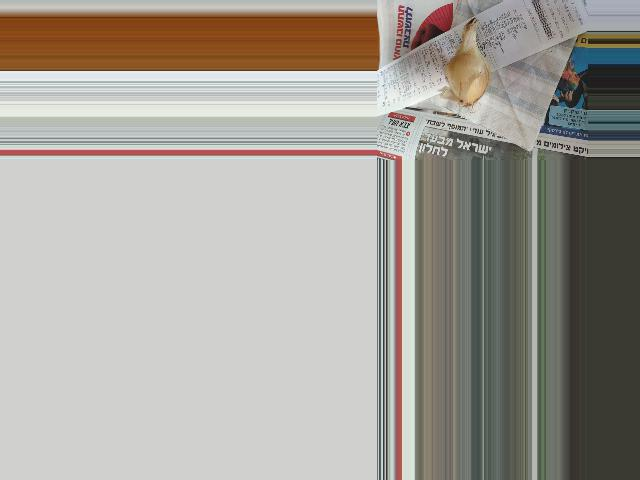onion: (450, 40, 489, 99)
